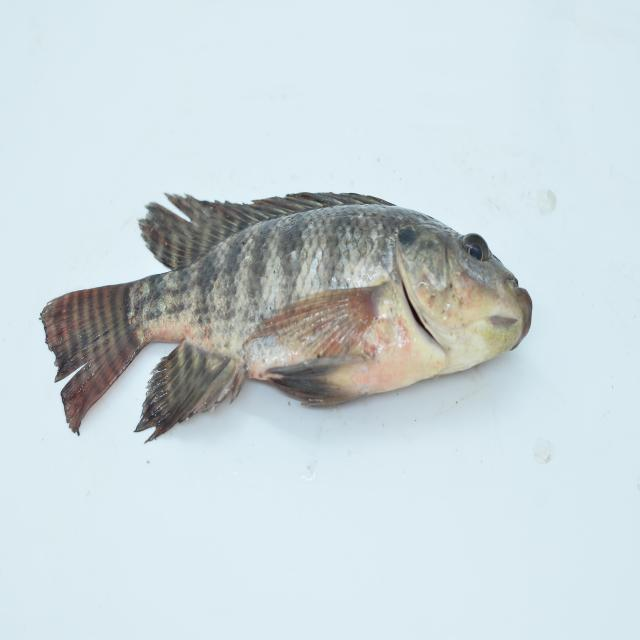Columnaris Disease: (40, 164, 592, 459)
